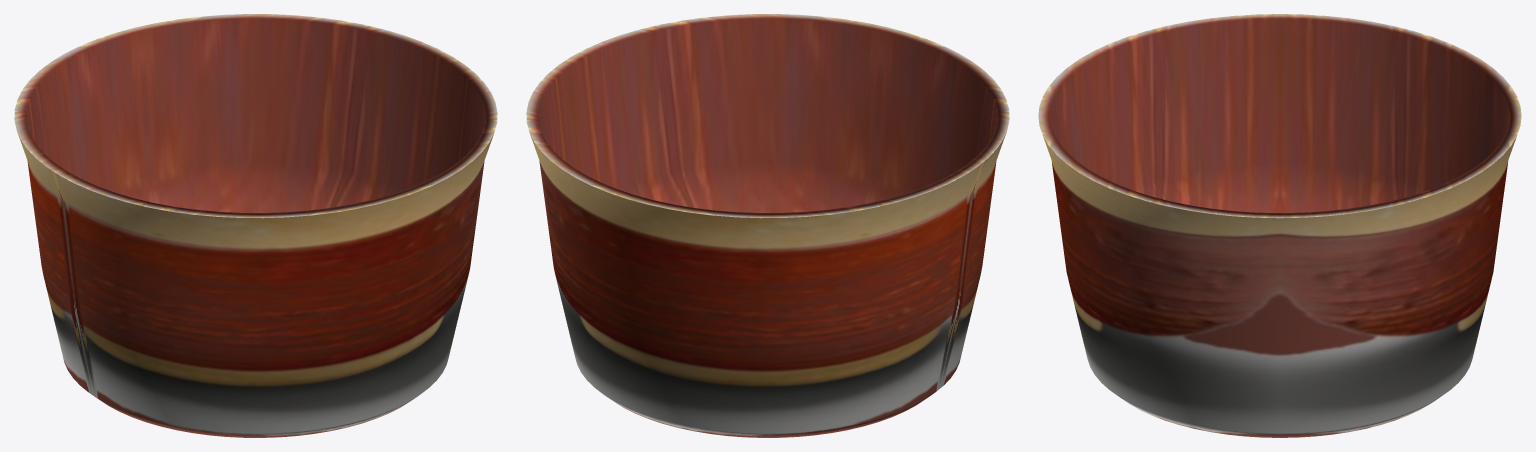
Rendered from ORI-12.glb.
The picture shows the model from 3 angles, left to right: view 1: azimuth 30°, elevation 25°; view 2: azimuth 150°, elevation 25°; view 3: azimuth 270°, elevation 25°; orthographic projection.
Size of the model in its own units: 0.15 by 0.084 by 0.15.
Materials: 2 (2 with a texture image).
